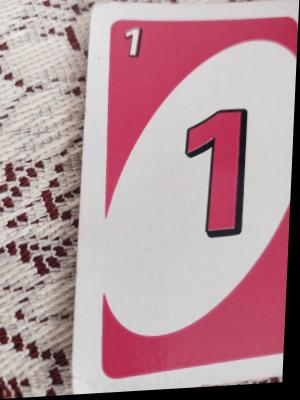num_1: (117, 18, 150, 73)
